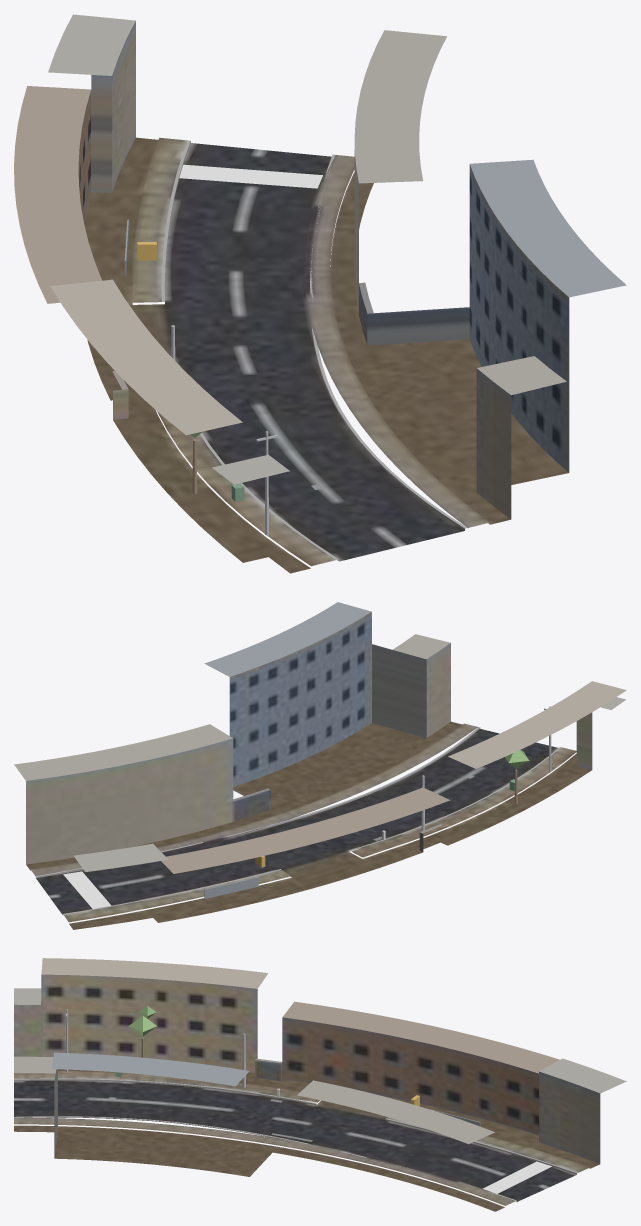
File: street.glb
3 renders of one model, top to bottom at view 1: azimuth 30°, elevation 25°; view 2: azimuth 150°, elevation 25°; view 3: azimuth 270°, elevation 25°, orthographic. The views are drawn at different scales.
Visible parts, largest first — view 1: Road, Frontage_Caps, Frontage_R, Ground_R, Ground_L, Footpath_Opposite, Footpath, Frontage_L, Kerb, Furniture_Decals; view 2: Frontage_R, Frontage_Caps, Road, Ground_L, Ground_R, Footpath, Footpath_Opposite, Kerb, Frontage_L, Furniture_Decals, Furniture_Railings; view 3: Frontage_L, Road, Frontage_Caps, Ground_R, Footpath_Opposite, Footpath, Ground_L, Kerb, Furniture_Decals, Furniture_Trees.
Part boxes in pixels (x1=…): Road: x1=164, y1=143, x2=464, y2=561; Frontage_Caps: x1=14, y1=14, x2=626, y2=484; Frontage_R: x1=354, y1=149, x2=569, y2=519; Ground_R: x1=330, y1=172, x2=568, y2=524; Ground_L: x1=83, y1=137, x2=310, y2=573; Footpath_Opposite: x1=304, y1=155, x2=489, y2=527; Footpath: x1=132, y1=137, x2=335, y2=566; Frontage_L: x1=78, y1=21, x2=135, y2=419; Kerb: x1=161, y1=140, x2=467, y2=559; Furniture_Decals: x1=179, y1=164, x2=325, y2=489; Frontage_R: x1=26, y1=612, x2=450, y2=864; Frontage_Caps: x1=14, y1=602, x2=626, y2=873; Road: x1=36, y1=729, x2=557, y2=915; Ground_L: x1=69, y1=754, x2=591, y2=929; Ground_R: x1=26, y1=721, x2=462, y2=870; Footpath: x1=64, y1=747, x2=576, y2=922; Footpath_Opposite: x1=30, y1=723, x2=477, y2=875; Kerb: x1=35, y1=727, x2=561, y2=914; Frontage_L: x1=419, y1=712, x2=592, y2=851; Furniture_Decals: x1=63, y1=774, x2=474, y2=908; Furniture_Railings: x1=204, y1=877, x2=258, y2=898; Frontage_L: x1=14, y1=974, x2=600, y2=1163; Road: x1=14, y1=1080, x2=576, y2=1201; Frontage_Caps: x1=14, y1=958, x2=626, y2=1144; Ground_R: x1=14, y1=1125, x2=504, y2=1211; Footpath_Opposite: x1=14, y1=1117, x2=515, y2=1205; Footpath: x1=14, y1=1071, x2=589, y2=1172; Ground_L: x1=58, y1=1069, x2=599, y2=1168; Kerb: x1=14, y1=1078, x2=577, y2=1200; Furniture_Decals: x1=109, y1=1097, x2=551, y2=1193; Furniture_Trees: x1=128, y1=1005, x2=156, y2=1057.
Bounding box in the file's own units: 43.91 × 12 × 62.85.
Materials: 4 (2 with a texture image).
